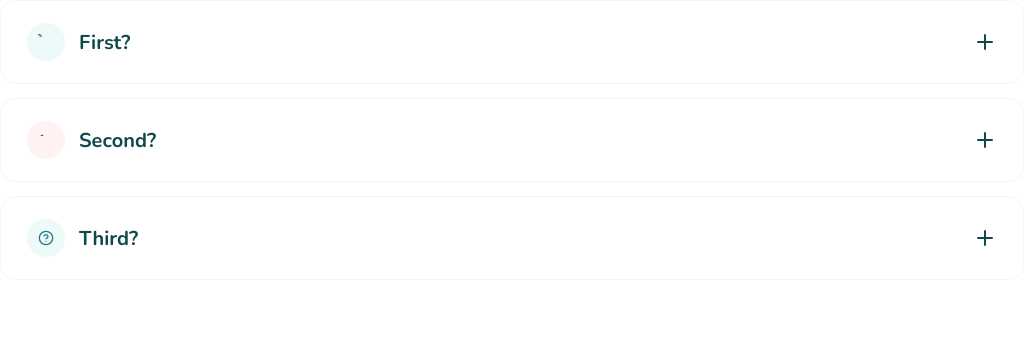
FaqCards toggling (single mode) › closes the other item when a second opens
Step 1. Click the button "First?" → (46,42), box top-left (27, 23), bottom-right (997, 61)
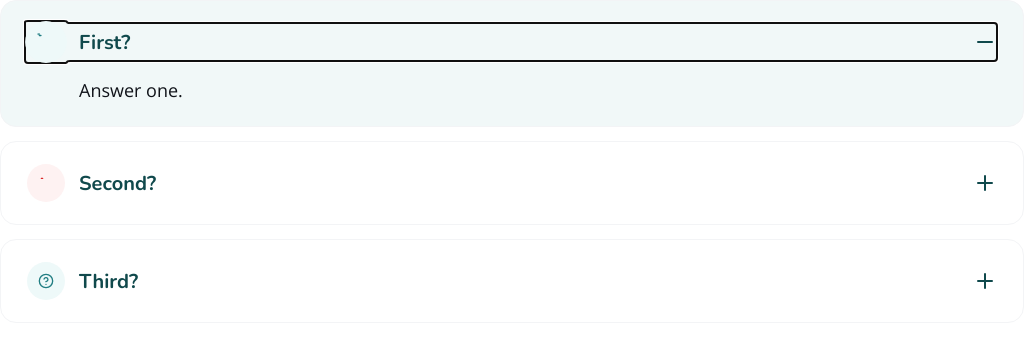
Step 2. Click the button "Second?" → (46,183), box top-left (27, 164), bottom-right (997, 202)
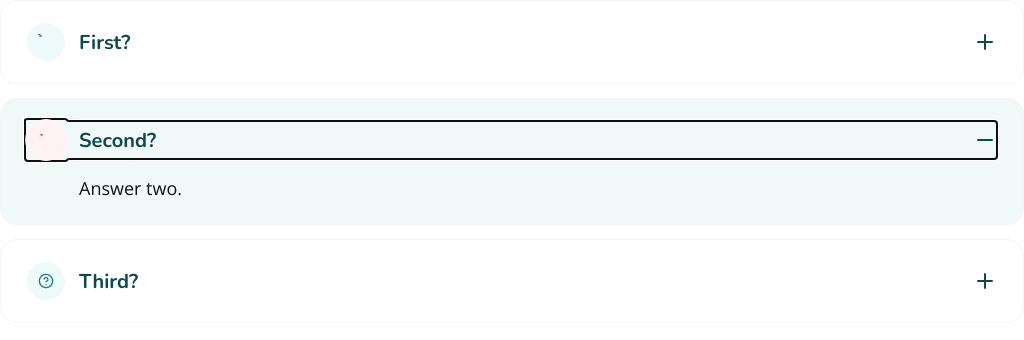
Expected: the button "First?" is collapsed, top-left (27, 23), bottom-right (997, 61)
Expected: the button "Second?" is expanded, top-left (27, 121), bottom-right (997, 159)
